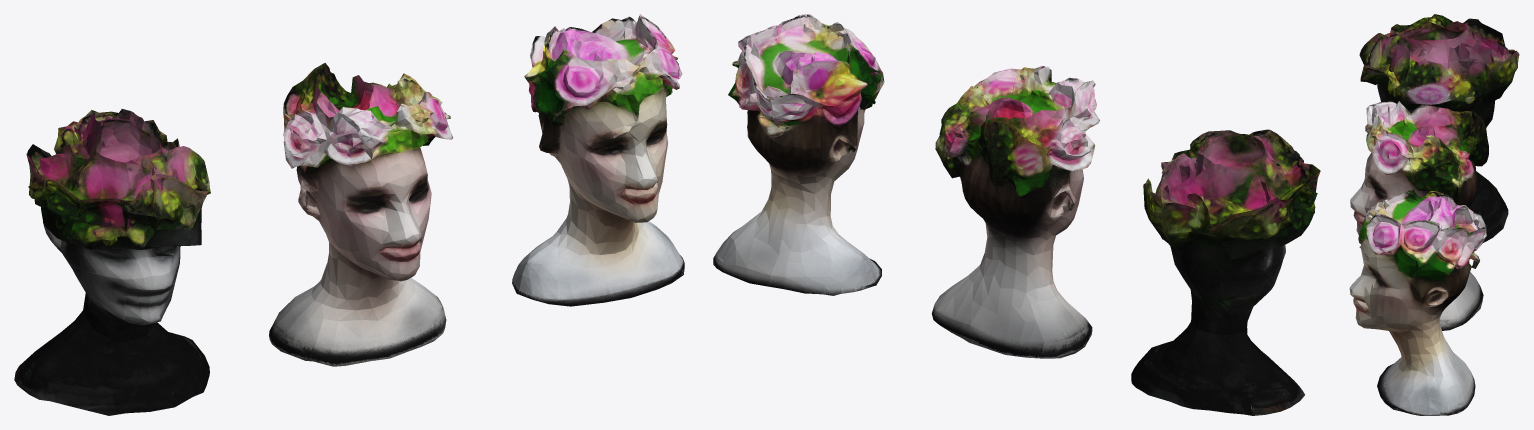
The model's file is trellis_result.glb.
The picture shows the model from 3 angles, left to right: view 1: azimuth 30°, elevation 25°; view 2: azimuth 150°, elevation 25°; view 3: azimuth 270°, elevation 25°; orthographic projection. The views are drawn at different scales.
Parts seen in each view (by area): view 1: world; view 2: world; view 3: world.
Boxes of the visible parts, x1=… form: world: x1=14, y1=14, x2=684, y2=415; world: x1=713, y1=14, x2=1320, y2=415; world: x1=1349, y1=14, x2=1519, y2=415.
Bounding box in the file's own units: 1 × 0.3858 × 0.3094.
1 material, 1 textured.
